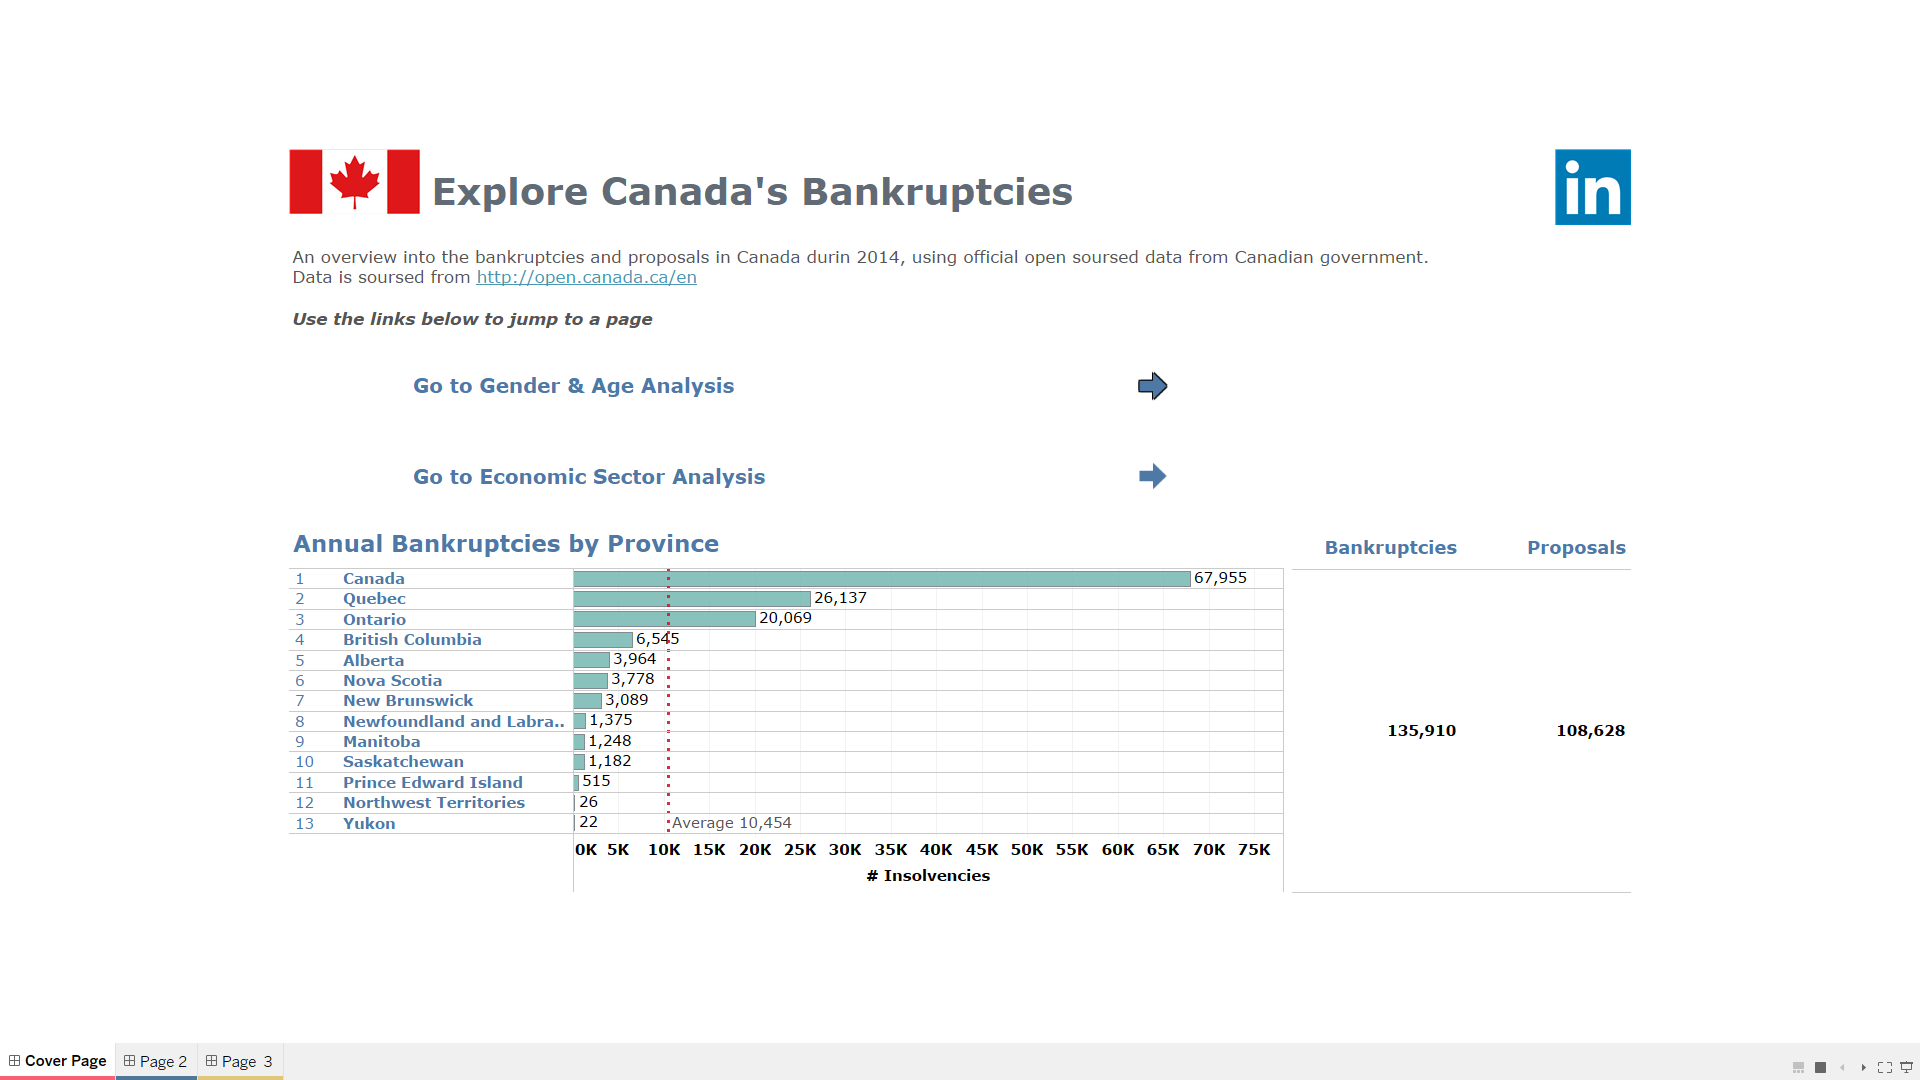

Layout of this report page (visuals, bound fields, positions):
{"tool":"tableau","page":{"name":"Cover Page","canvas":[1366,768],"ordinal":0},"visuals":[{"type":"image","param":"Image/Canada.jpg","box":[8,8,139,90]},{"type":"title","box":[147,8,686,90]},{"type":"blank","box":[833,8,441,90]},{"type":"image","param":"Image/linkdin.png","box":[1274,8,84,90]},{"type":"text","box":[8,98,1350,105]},{"type":"blank","box":[8,203,118,91]},{"type":"worksheet","title":"navp2","mark":"Shape","rows":["Page desc"],"box":[126,203,1232,91]},{"type":"blank","box":[8,294,118,90]},{"type":"worksheet","title":"navp3","mark":"Shape","rows":["Page desc"],"box":[126,294,1232,90]},{"type":"worksheet","title":"Annual Bankruptcies by Province","mark":"Automatic","rows":["Calculation_2019864478414372868","Province"],"cols":["# insolvencies"],"box":[8,384,1003,376]},{"type":"worksheet","title":"Totals","mark":"Automatic","cols":["Proposals or Bankrupt"],"box":[1011,384,347,376]}]}

Visuals, with their boxes on the page's 1366x768 design canvas (x1, y1, x2, y2). These are canvas units, not pixel positions in the 1920x1080 screenshot, which may show the page scaled, cropped or inside an application window:
image: (x1=8, y1=8, x2=147, y2=98)
title: (x1=147, y1=8, x2=833, y2=98)
blank: (x1=833, y1=8, x2=1274, y2=98)
image: (x1=1274, y1=8, x2=1358, y2=98)
text: (x1=8, y1=98, x2=1358, y2=203)
blank: (x1=8, y1=203, x2=126, y2=294)
"navp2" worksheet (Shape marks): (x1=126, y1=203, x2=1358, y2=294)
blank: (x1=8, y1=294, x2=126, y2=384)
"navp3" worksheet (Shape marks): (x1=126, y1=294, x2=1358, y2=384)
"Annual Bankruptcies by Province" worksheet: (x1=8, y1=384, x2=1011, y2=760)
"Totals" worksheet: (x1=1011, y1=384, x2=1358, y2=760)
